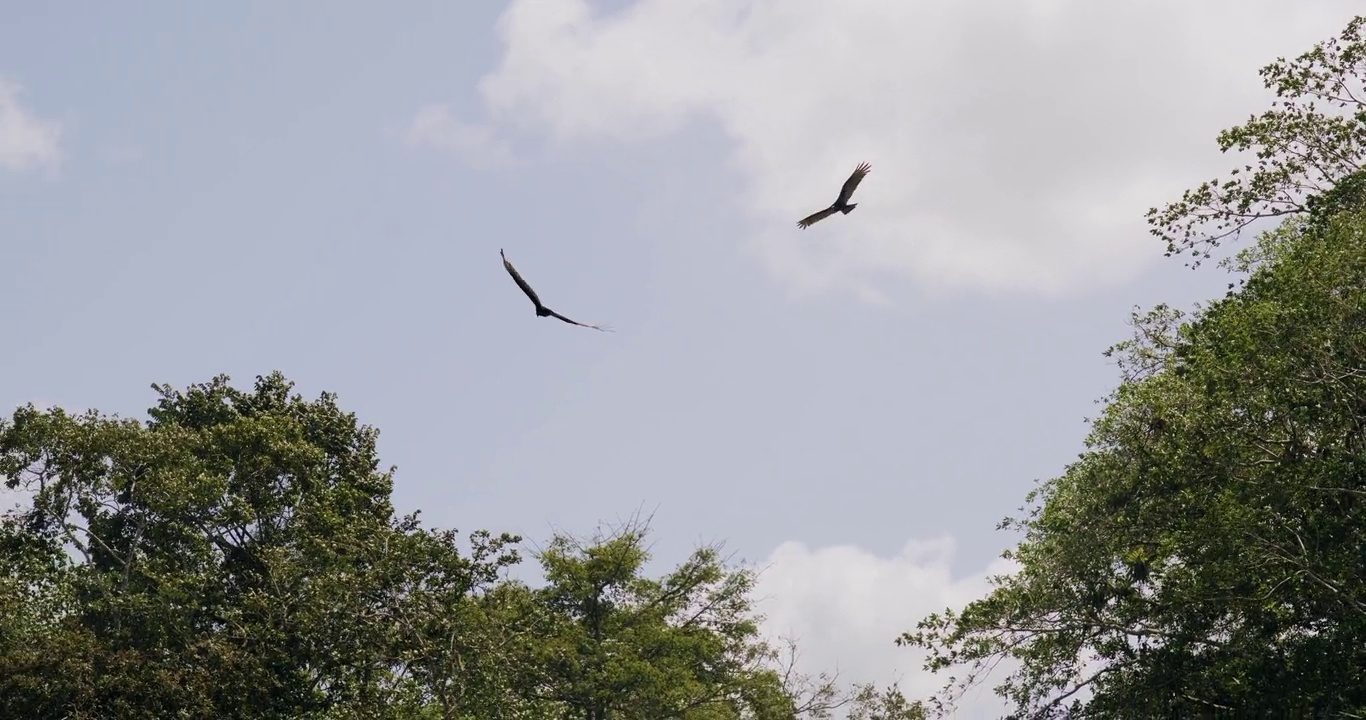bird: (500, 245, 610, 330), (795, 161, 872, 230)
